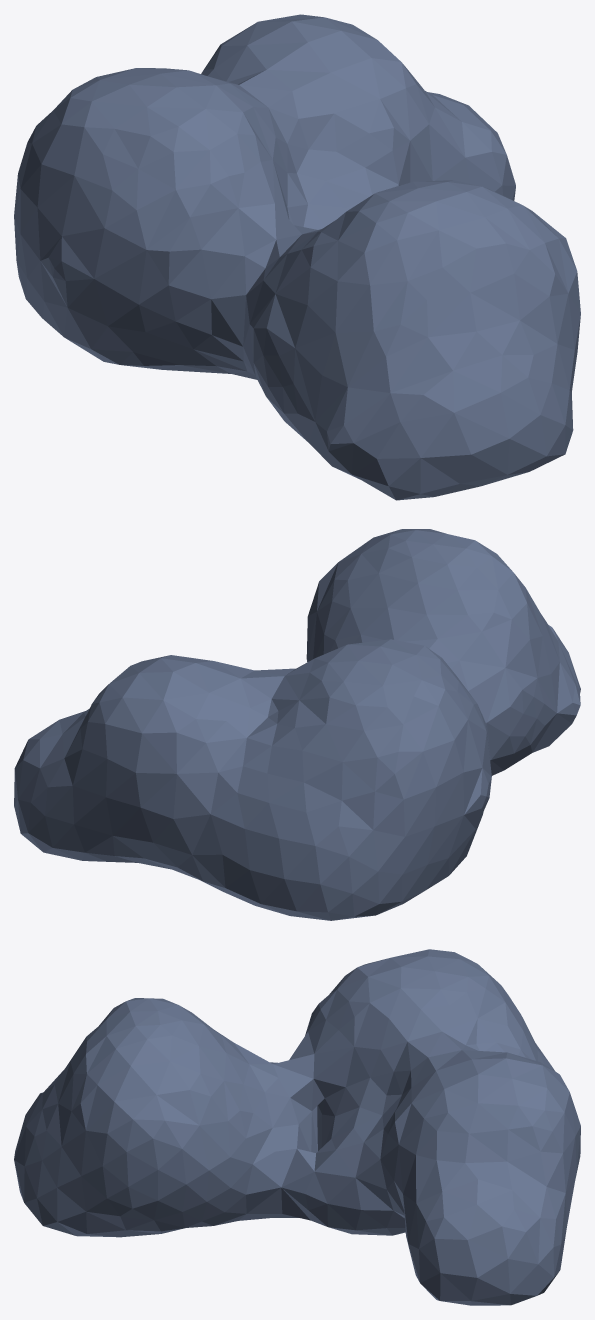
The model's file is MinecartMayhemRubble.obj.
The picture shows the model from 3 angles, top to bottom: view 1: azimuth 30°, elevation 25°; view 2: azimuth 150°, elevation 25°; view 3: azimuth 270°, elevation 25°; orthographic projection. The views are drawn at different scales.
Visible parts, largest first — view 1: Rock; view 2: Rock; view 3: Rock.
Part boxes in pixels (x1,y1,x2,y2): Rock: [14, 14, 580, 500]; Rock: [14, 529, 580, 920]; Rock: [14, 949, 580, 1305].
Bounding box in the file's own units: 8.93 × 4.43 × 10.93.
